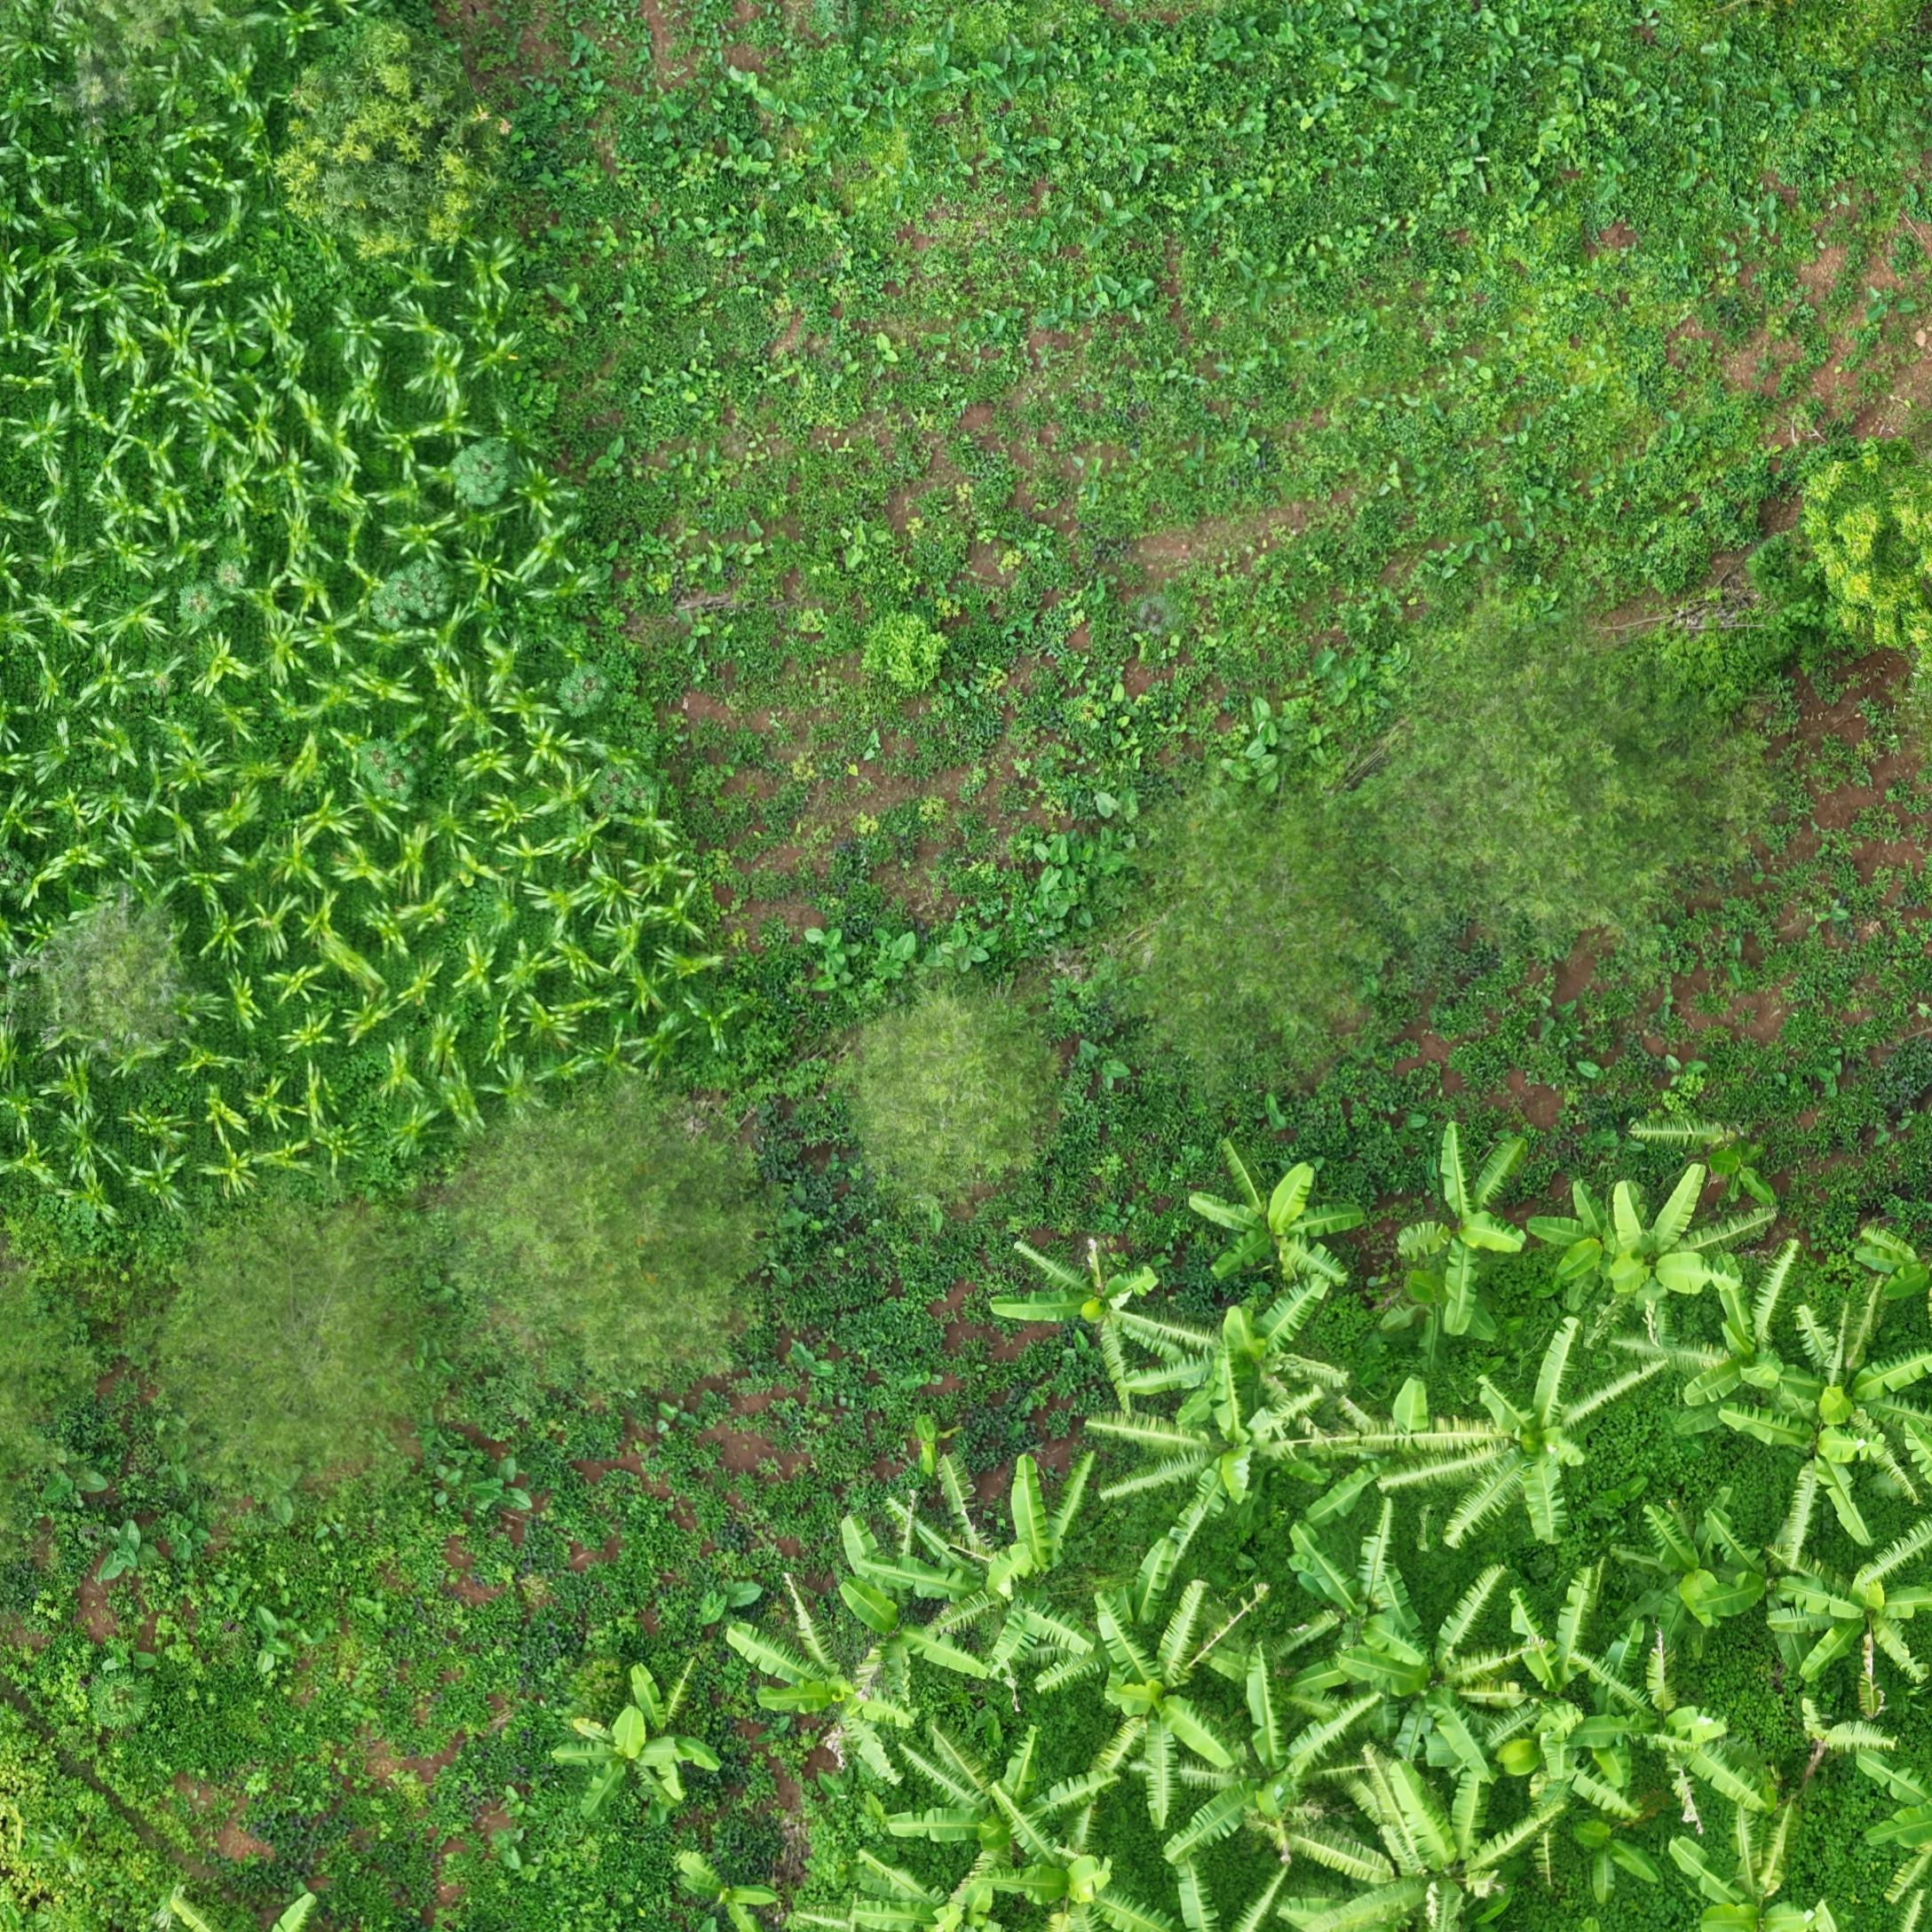Banana: (1566, 1631, 1833, 1879), (936, 1527, 1146, 1755), (1231, 1714, 1445, 1932), (1127, 1394, 1378, 1557), (1380, 1644, 1573, 1845), (759, 1660, 945, 1844), (1348, 1817, 1640, 1932), (931, 1796, 1169, 1930), (1444, 1162, 1578, 1391), (1599, 1219, 1824, 1355), (1033, 1292, 1210, 1449), (1231, 1182, 1417, 1325), (582, 1725, 763, 1868), (1129, 1675, 1284, 1836), (1525, 1401, 1652, 1591), (1828, 1399, 1932, 1601), (1856, 1601, 1932, 1741)
